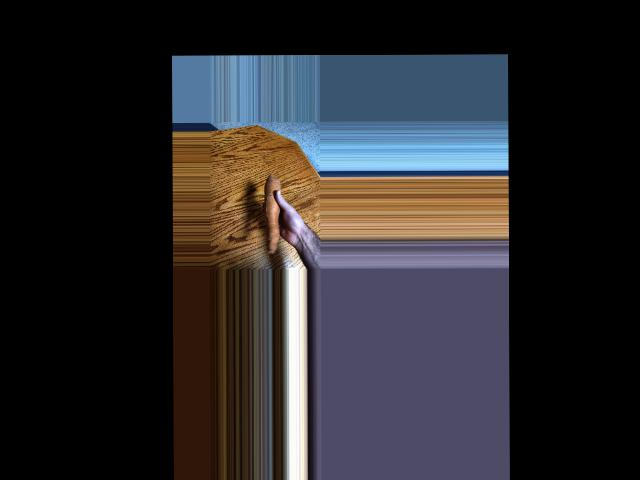sweet_potato: (261, 178, 284, 254)
